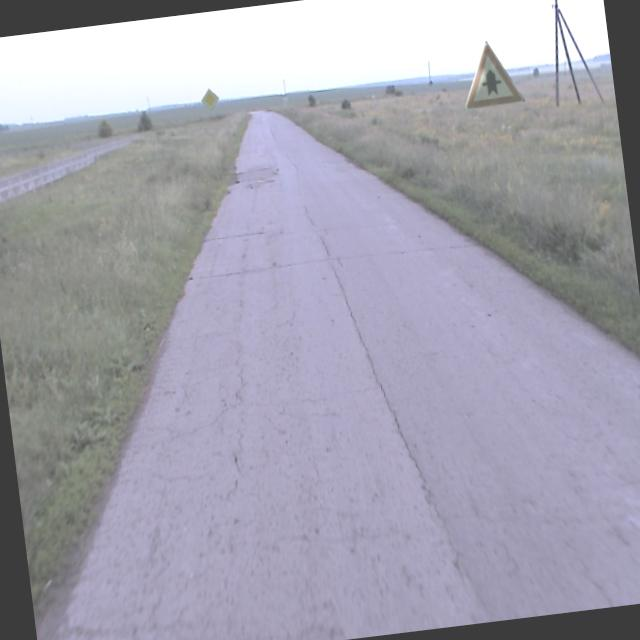road: (51, 112, 640, 640)
